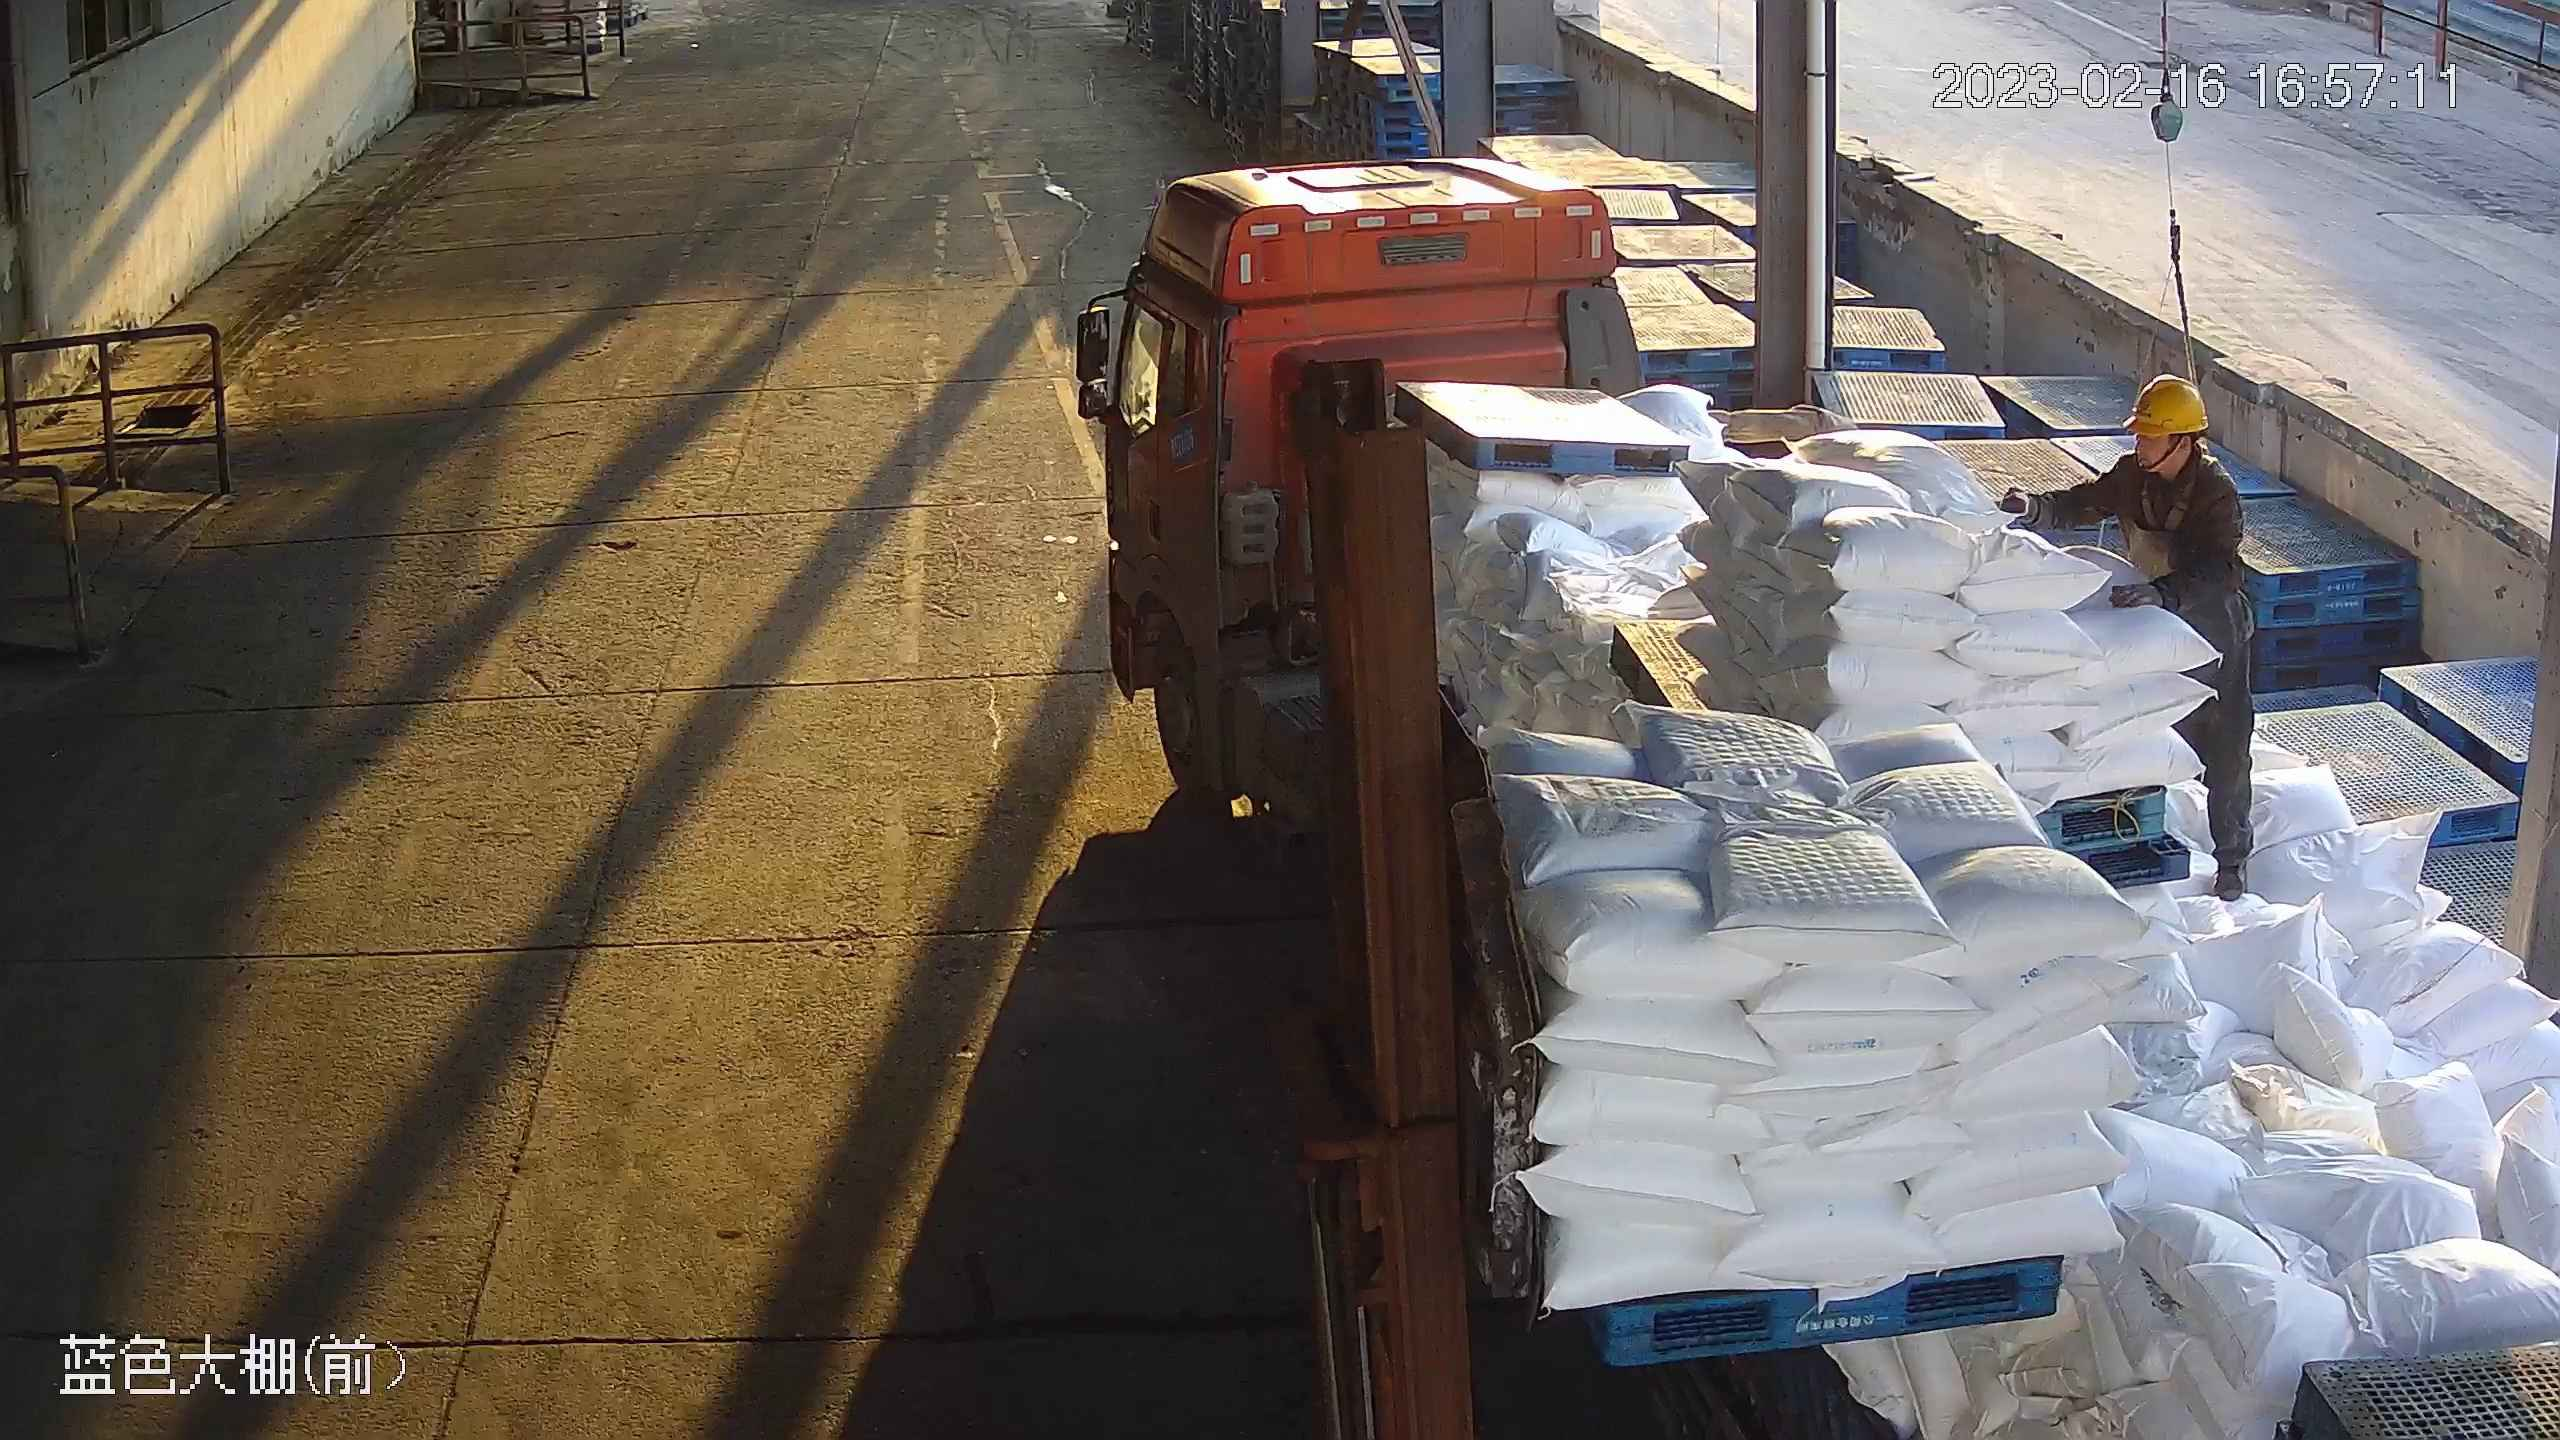belt: (2125, 471, 2205, 545)
head: (2079, 382, 2238, 532)
helmet: (2109, 377, 2220, 438)
people: (2033, 367, 2261, 904)
truck: (1068, 141, 2560, 1440)
